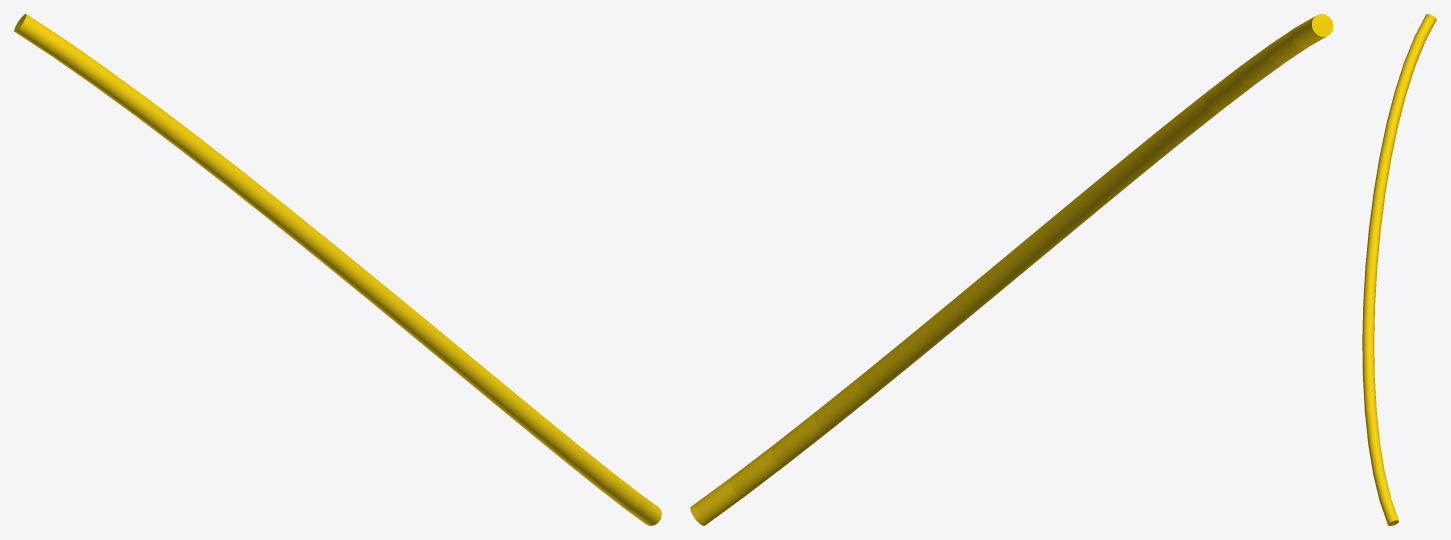
The model's file is Event_420094457_track_86.fbx.
3 renders of one model, left to right at view 1: azimuth 30°, elevation 25°; view 2: azimuth 150°, elevation 25°; view 3: azimuth 270°, elevation 25°, orthographic. The views are drawn at different scales.
Visible parts, largest first — view 1: Model; view 2: Model; view 3: Model.
Boxes of the visible parts, x1,y1,x2,y2 form: Model: [14, 14, 661, 525]; Model: [690, 14, 1333, 525]; Model: [1362, 14, 1436, 525].
Size of the model in its own units: 1.32 by 1.3 by 0.2495.
